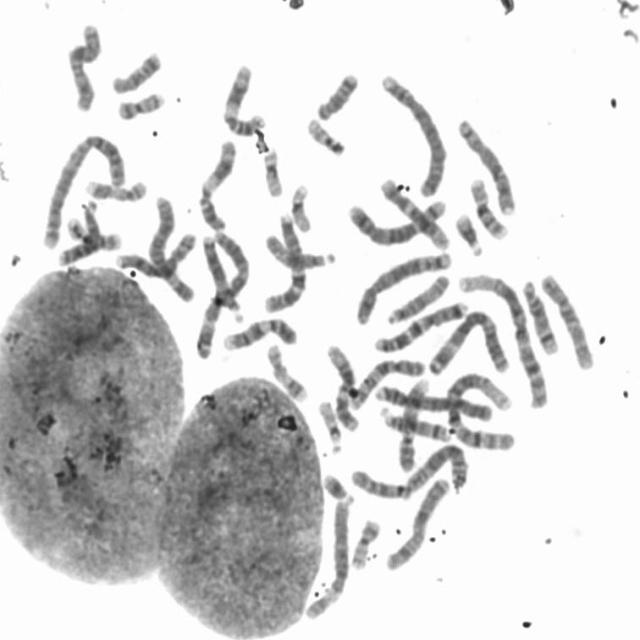A1: (454, 266, 550, 410), (440, 368, 518, 454)
A2: (37, 128, 129, 251), (346, 438, 473, 502)
A3: (192, 224, 252, 362), (425, 304, 512, 377)
B4: (376, 67, 448, 198), (372, 380, 496, 423)
B5: (353, 246, 454, 326), (342, 192, 449, 248)
C10: (537, 268, 596, 372), (344, 352, 426, 411)
C11: (193, 134, 238, 232), (217, 58, 269, 138)
C12: (375, 174, 451, 252), (324, 339, 362, 433)
C6: (300, 492, 354, 622), (147, 191, 198, 304)
C7: (370, 296, 470, 354), (260, 209, 309, 314)
C8: (454, 112, 519, 216), (114, 227, 198, 279)
C9: (394, 371, 434, 473), (217, 312, 299, 353)
D13: (198, 228, 246, 324), (55, 197, 102, 267)
D14: (518, 274, 561, 356), (375, 402, 451, 442)
D15: (382, 268, 451, 326), (261, 228, 338, 270)
E16: (466, 173, 510, 241), (63, 214, 122, 252)
E17: (263, 338, 311, 404), (82, 174, 150, 204)
E18: (108, 46, 164, 94), (313, 67, 362, 121)
F19: (287, 178, 314, 234), (259, 143, 285, 198)
F20: (346, 513, 384, 570), (114, 86, 168, 122)
G21: (451, 208, 486, 258), (318, 468, 356, 506)
G22: (302, 112, 348, 157), (313, 395, 345, 455)
X: (381, 473, 452, 572), (63, 19, 105, 113)
